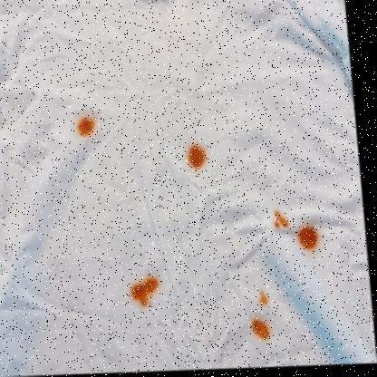kimchi: (123, 275, 160, 308), (247, 315, 276, 343), (184, 141, 208, 172), (71, 113, 103, 135), (300, 223, 318, 250), (272, 209, 288, 230), (256, 290, 269, 305)
